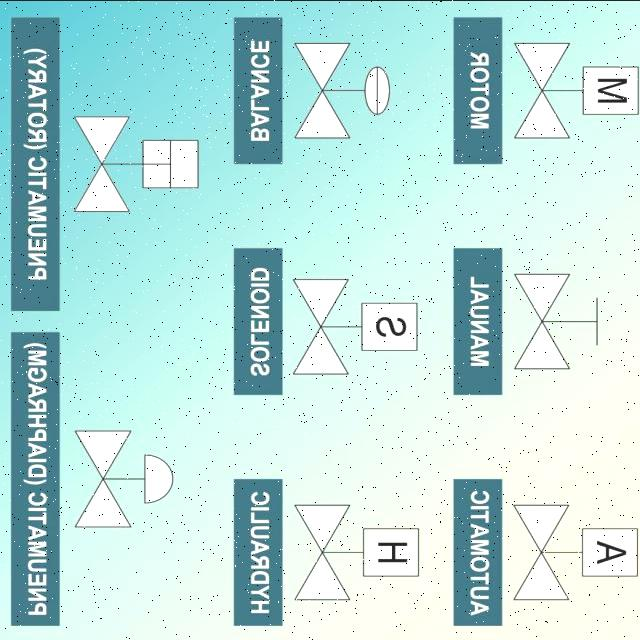Balance Diaphragm Gate Valve: (290, 26, 402, 145)
Hand Operated Gate Valve: (506, 255, 611, 384)
Hydraulic Operated Gate Valve: (284, 470, 430, 626)
Motor Operated Gate Valve: (505, 25, 640, 146)
Pneumatic-Diaphragm Gate Valve: (70, 418, 185, 554)
Rotary Piston-Pneumatic Gate Valve: (64, 82, 216, 243)
Solenoid Operated Gate Valve: (286, 240, 424, 407)
